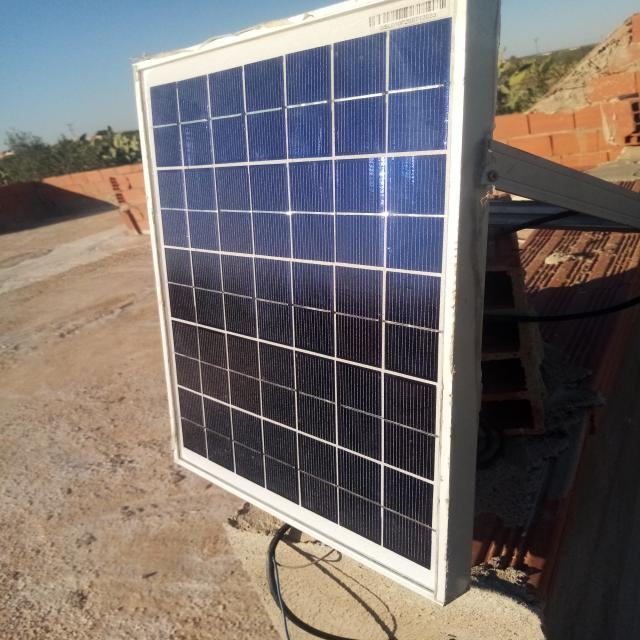no faulty: (131, 0, 466, 600)
